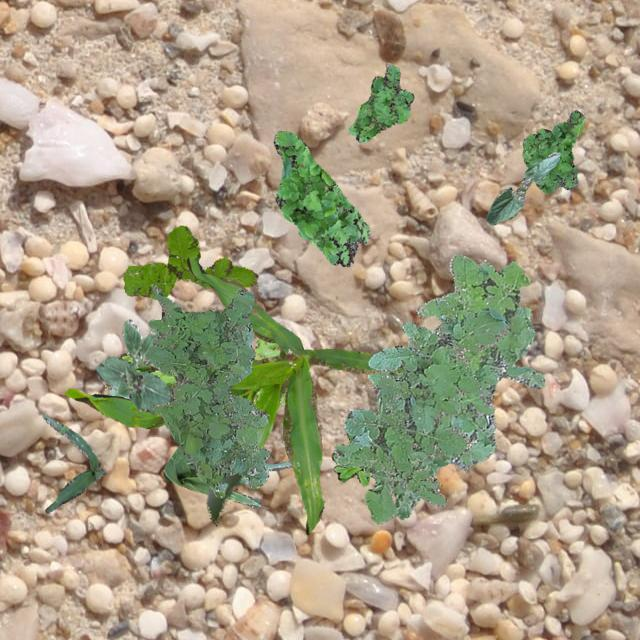crop: (64, 254, 402, 534), (162, 444, 290, 508), (42, 412, 104, 512), (486, 150, 558, 223), (94, 356, 170, 412), (108, 318, 158, 396)
weed: (366, 253, 544, 518), (332, 296, 507, 522), (144, 283, 268, 497), (272, 130, 368, 266), (102, 338, 285, 408), (122, 224, 256, 298), (348, 62, 412, 142), (522, 110, 584, 192), (331, 432, 369, 484), (170, 368, 177, 379)
